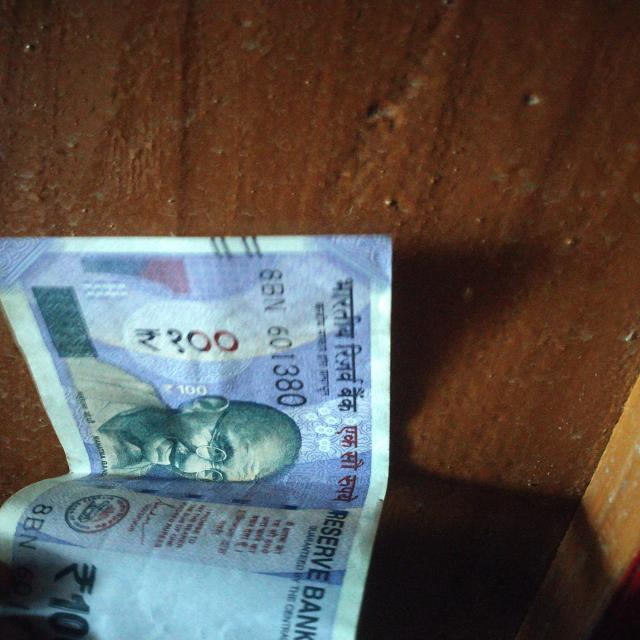100rs: (0, 235, 403, 640)
